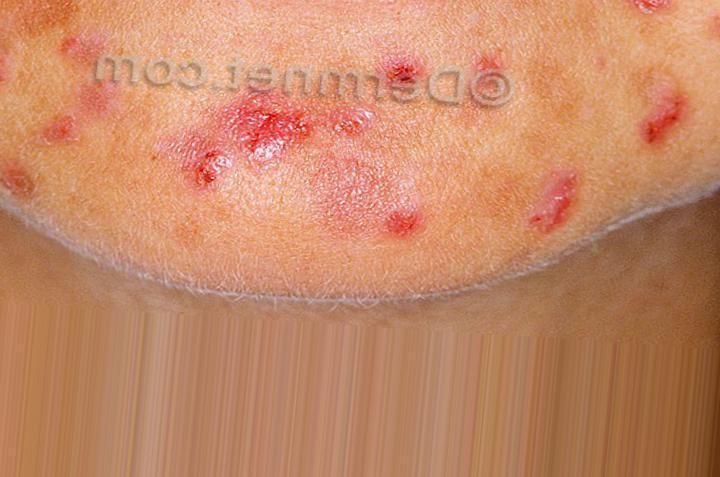Acne: (144, 129, 273, 238), (524, 151, 656, 248), (291, 74, 399, 173), (44, 21, 155, 117), (387, 44, 494, 143), (604, 92, 710, 158), (224, 84, 317, 151), (371, 187, 464, 252)
